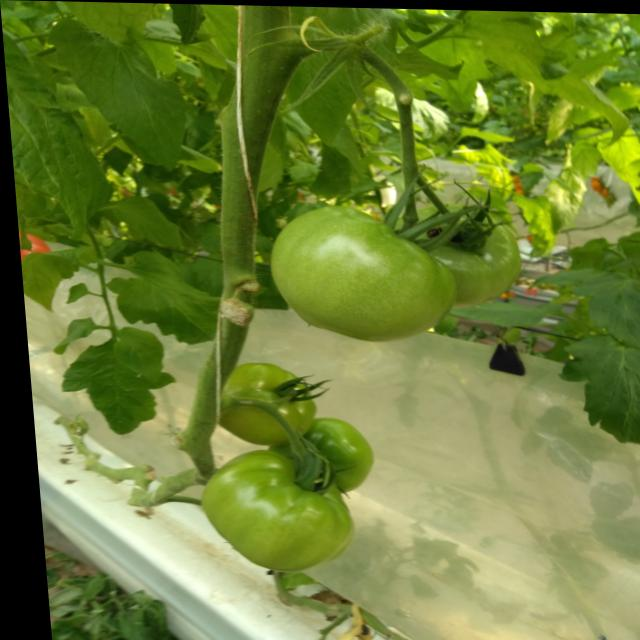yesil: (121, 331, 389, 566), (243, 187, 552, 331)
